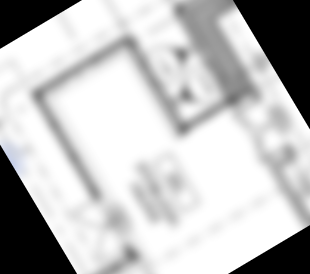double door: (229, 95, 291, 166), (71, 195, 130, 265)
